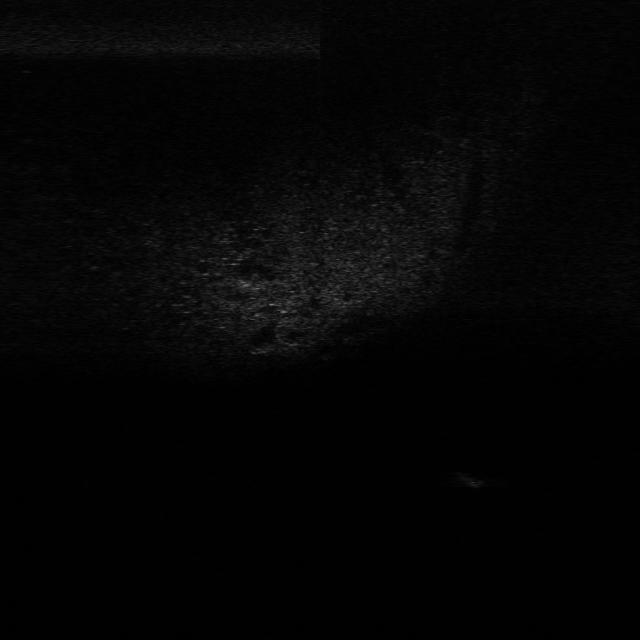cylinder: (447, 470, 487, 492)
